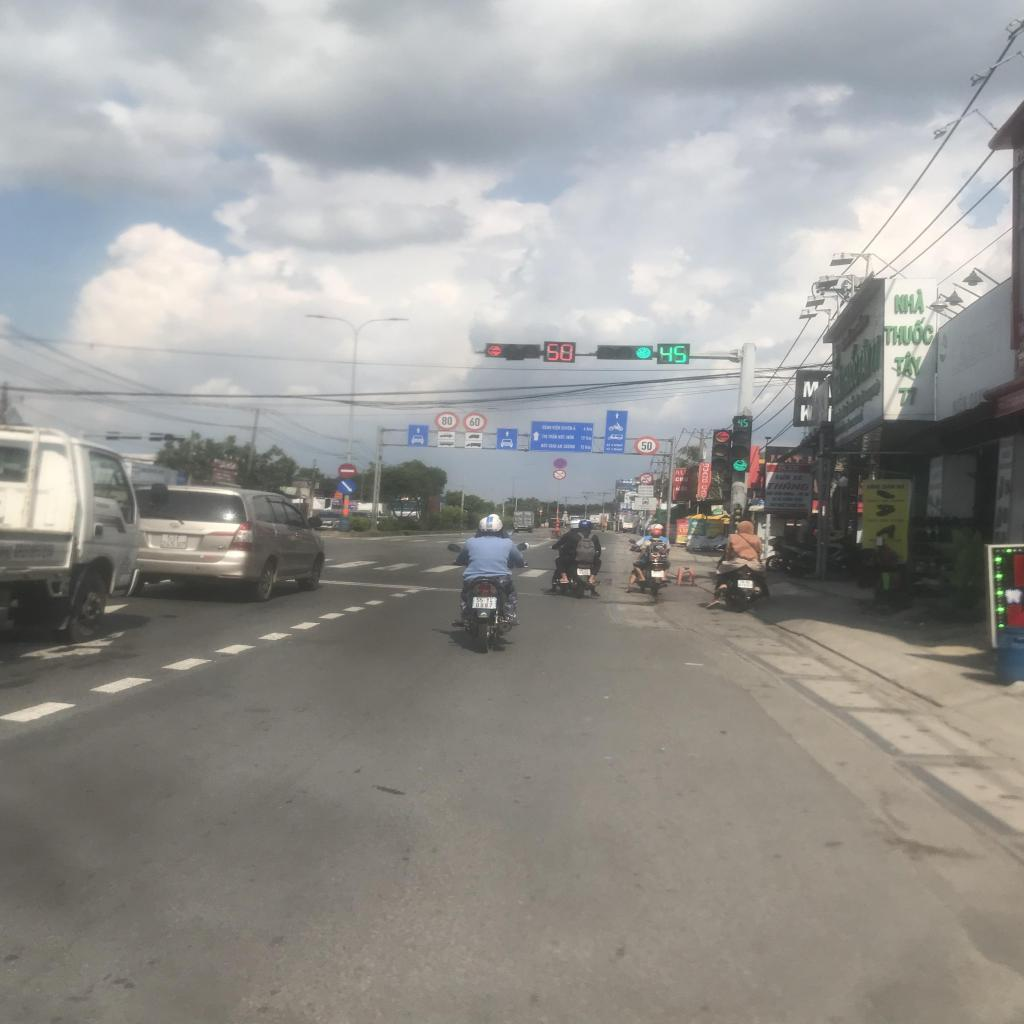cam_dung_xe_va_do_xe: (554, 458, 568, 469)
cam_o_to_tai_va_xe_khach: (638, 473, 654, 484)
cam_xe_2_banh_va_xe_3_banh_co_dong_co: (552, 470, 566, 480)
cam_xe_di_nguoc_chieu: (338, 463, 356, 478)
duong_cho_xe_o_to: (407, 425, 428, 446), (497, 428, 518, 449)
huong_phai_di_vuot_chuong_ngai_vat_phai: (336, 478, 356, 495)
khac: (529, 421, 594, 452), (603, 410, 628, 455), (634, 498, 656, 510), (638, 486, 654, 497), (465, 432, 483, 441), (465, 440, 482, 449), (437, 439, 455, 447), (438, 432, 455, 440)
toc_do_toi_da_50: (634, 436, 659, 455)
toc_do_toi_da_60: (462, 413, 488, 432)
toc_do_toi_da_80: (435, 411, 459, 431)
